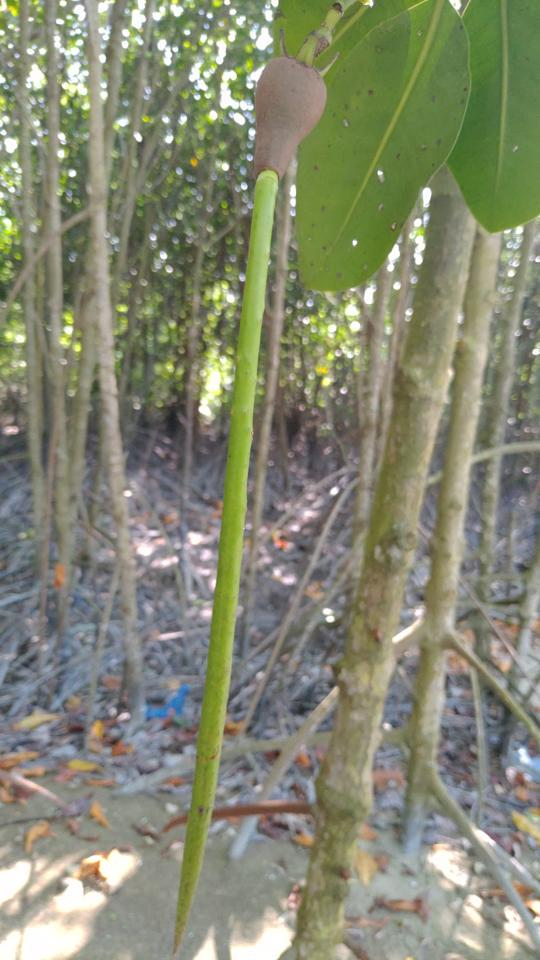setengah matang: (167, 30, 345, 958)
